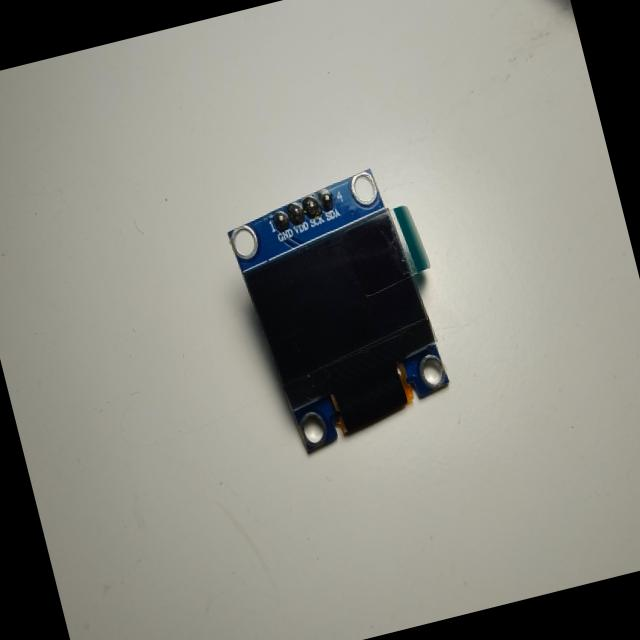oled: (214, 146, 480, 468)
